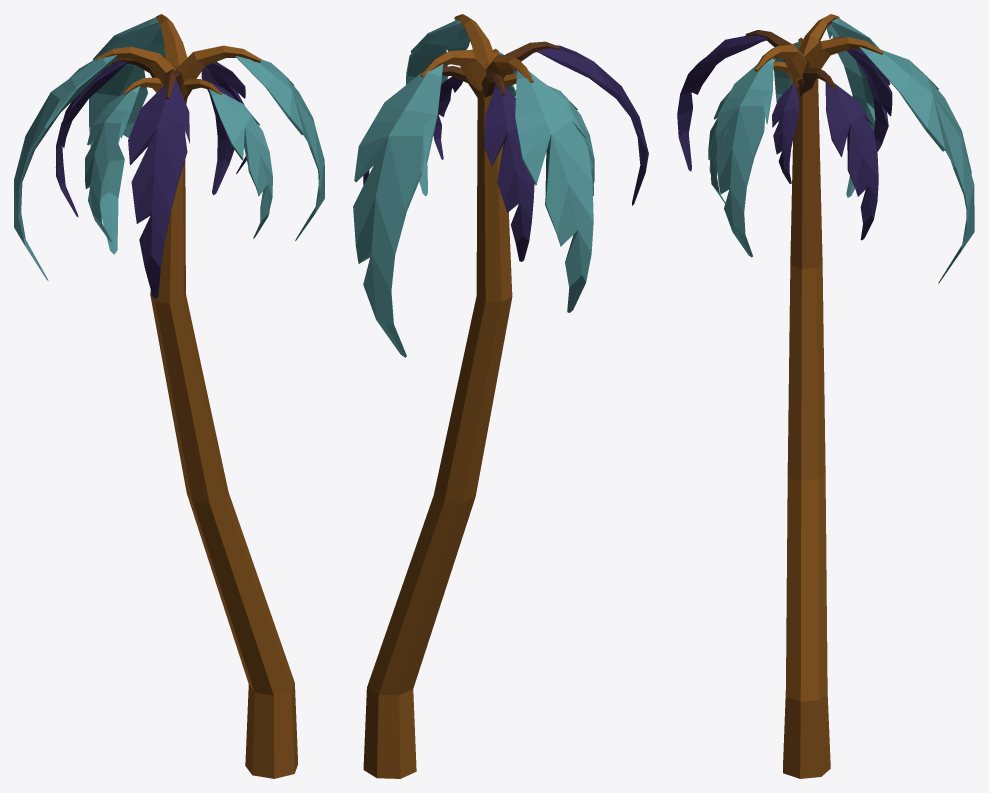
The model's file is FBX Boom 2 Fixed.fbx.
The picture shows the model from 3 angles, left to right: view 1: azimuth 30°, elevation 25°; view 2: azimuth 150°, elevation 25°; view 3: azimuth 270°, elevation 25°; orthographic projection. The views are drawn at different scales.
Visible parts, largest first — view 1: Lange palmboom, OG goed palmblad.018, OG goed palmblad.020, OG goed palmblad.024, OG goed palmblad.019, OG goed palmblad.025, OG goed palmblad.022, OG goed palmblad.021, OG goed palmblad.023, Stem Palm blad.008, Stem Palm blad.045, Stem Palm blad.007; view 2: Lange palmboom, OG goed palmblad.020, OG goed palmblad.019, OG goed palmblad.023, OG goed palmblad.018, OG goed palmblad.022, Stem Palm blad.007, Stem Palm blad.008, OG goed palmblad.026, Stem Palm blad.045, OG goed palmblad.025, Stem Palm blad.001; view 3: Lange palmboom, OG goed palmblad.022, OG goed palmblad.020, OG goed palmblad.021, OG goed palmblad.018, OG goed palmblad.019, OG goed palmblad.026, OG goed palmblad.023, Stem Palm blad.007, Stem Palm blad.008, OG goed palmblad.024, Stem Palm blad.045.
Part boxes in pixels (box(x1,y1,x2,y2)): Lange palmboom: box(150, 128, 297, 778); OG goed palmblad.018: box(128, 79, 189, 298); OG goed palmblad.020: box(89, 17, 165, 254); OG goed palmblad.024: box(209, 89, 272, 238); OG goed palmblad.019: box(14, 55, 117, 280); OG goed palmblad.025: box(85, 86, 140, 241); OG goed palmblad.022: box(235, 56, 324, 240); OG goed palmblad.021: box(201, 61, 245, 195); OG goed palmblad.023: box(55, 61, 127, 217); Stem Palm blad.008: box(176, 45, 261, 81); Stem Palm blad.045: box(95, 46, 176, 85); Stem Palm blad.007: box(156, 14, 187, 69); Lange palmboom: box(363, 87, 512, 778); OG goed palmblad.020: box(353, 64, 443, 357); OG goed palmblad.019: box(515, 70, 593, 312); OG goed palmblad.023: box(484, 84, 534, 261); OG goed palmblad.018: box(536, 45, 648, 205); OG goed palmblad.022: box(406, 19, 469, 196); Stem Palm blad.007: box(420, 49, 486, 90); Stem Palm blad.008: box(454, 14, 495, 67); OG goed palmblad.026: box(433, 76, 462, 159); Stem Palm blad.045: box(486, 54, 533, 82); OG goed palmblad.025: box(547, 85, 594, 195); Stem Palm blad.001: box(505, 41, 560, 74); Lange palmboom: box(783, 78, 830, 778); OG goed palmblad.022: box(716, 58, 773, 257); OG goed palmblad.020: box(859, 47, 974, 283); OG goed palmblad.021: box(825, 81, 878, 240); OG goed palmblad.018: box(677, 35, 767, 171); OG goed palmblad.019: box(826, 18, 888, 197); OG goed palmblad.026: box(772, 84, 799, 183); OG goed palmblad.023: box(846, 49, 892, 151); Stem Palm blad.007: box(804, 37, 883, 71); Stem Palm blad.008: box(754, 44, 807, 77); OG goed palmblad.024: box(708, 90, 730, 203); Stem Palm blad.045: box(799, 14, 839, 56).
Size of the model in its own units: 373 by 1068 by 415.
